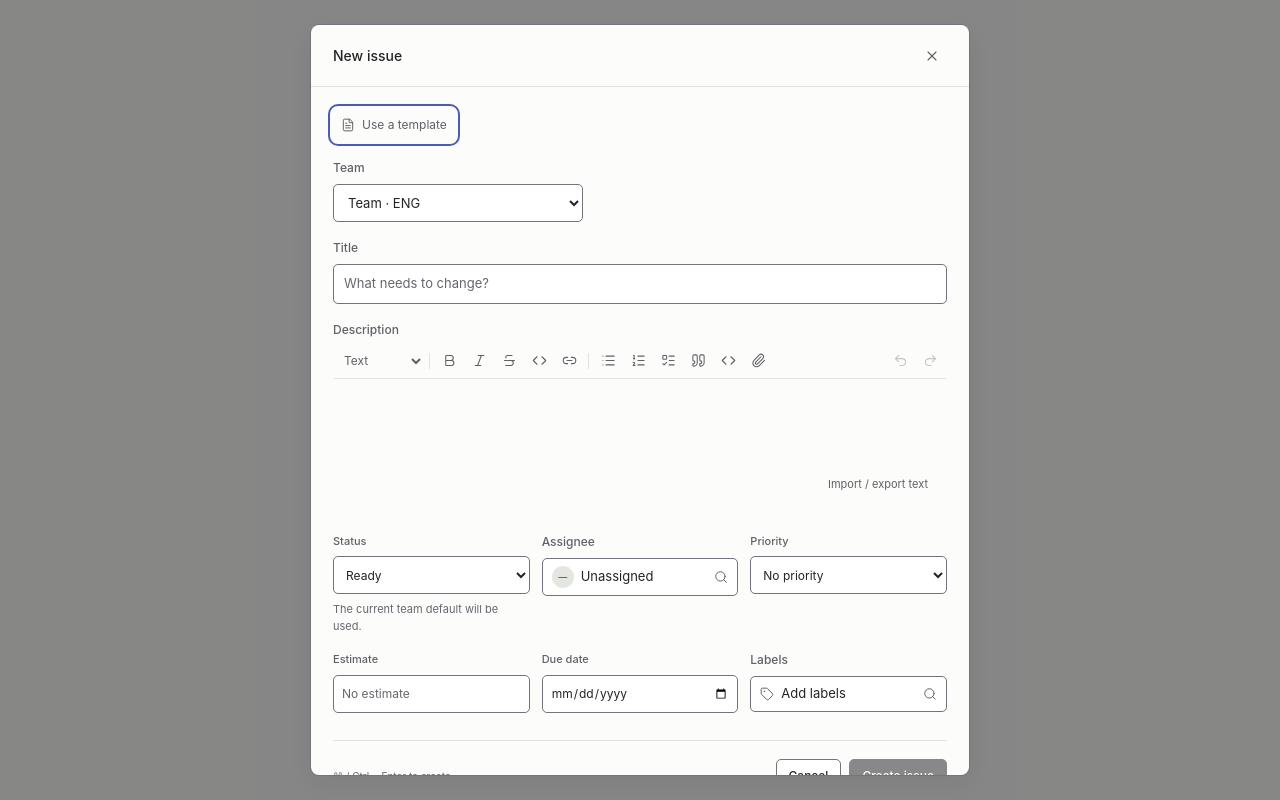
Test case: Escape closes only the nested chooser and preserves the outer issue dialog (dirty: false)
This screenshot has width=1280, height=800.
Click the button "Use a template": (394, 125) [333,109,455,141]
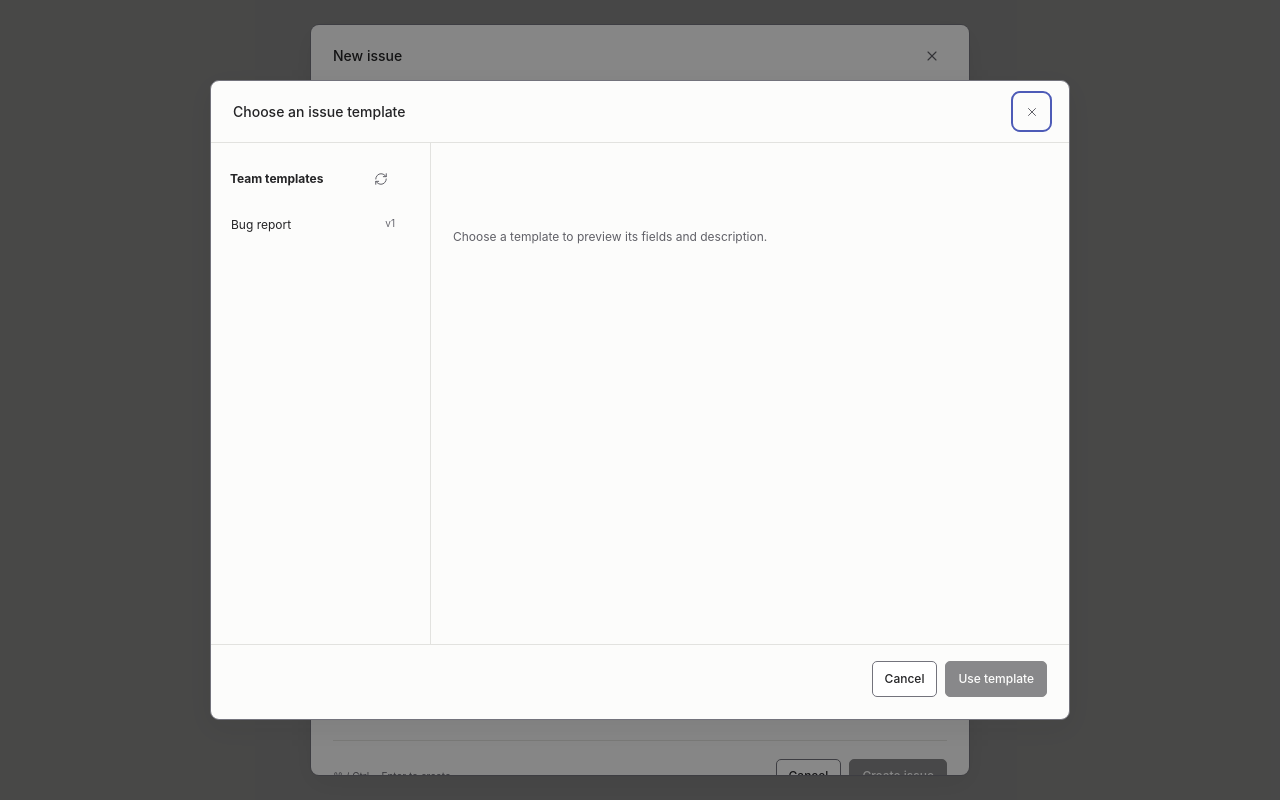
Result: the button "Bug report v1" is shown
Click the button "Bug report v1": (313, 225) [223,206,403,244]
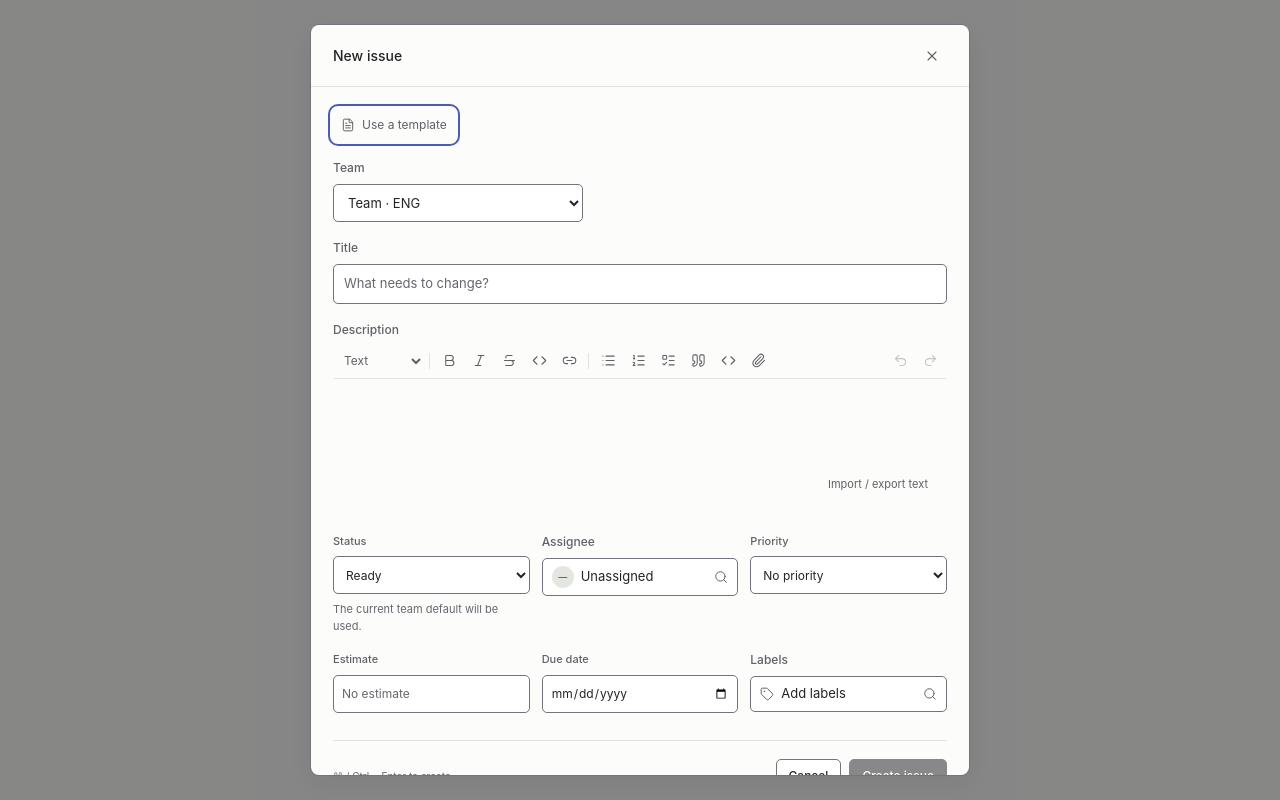
Expected: the field labelled "Title" is empty, [333,264,947,304]
Result: the number of dialogs is 1 at [310,24,970,776]
